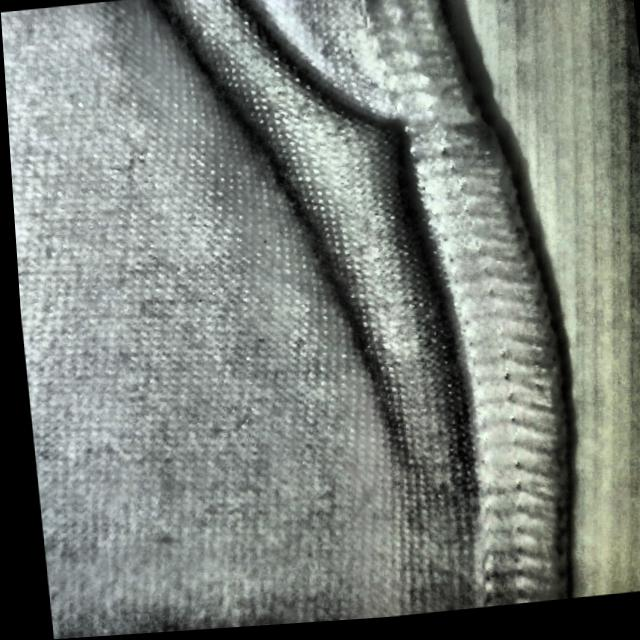seam: (242, 49, 516, 284)
